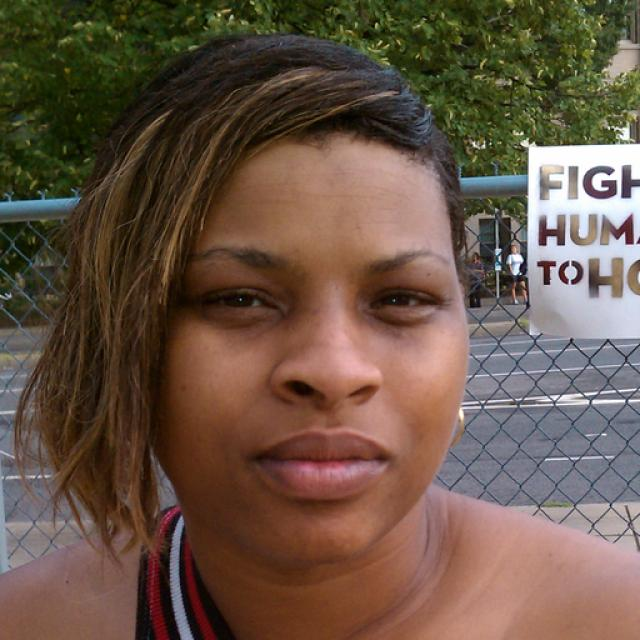Dark Circle: (205, 308, 285, 337), (362, 309, 436, 336)
